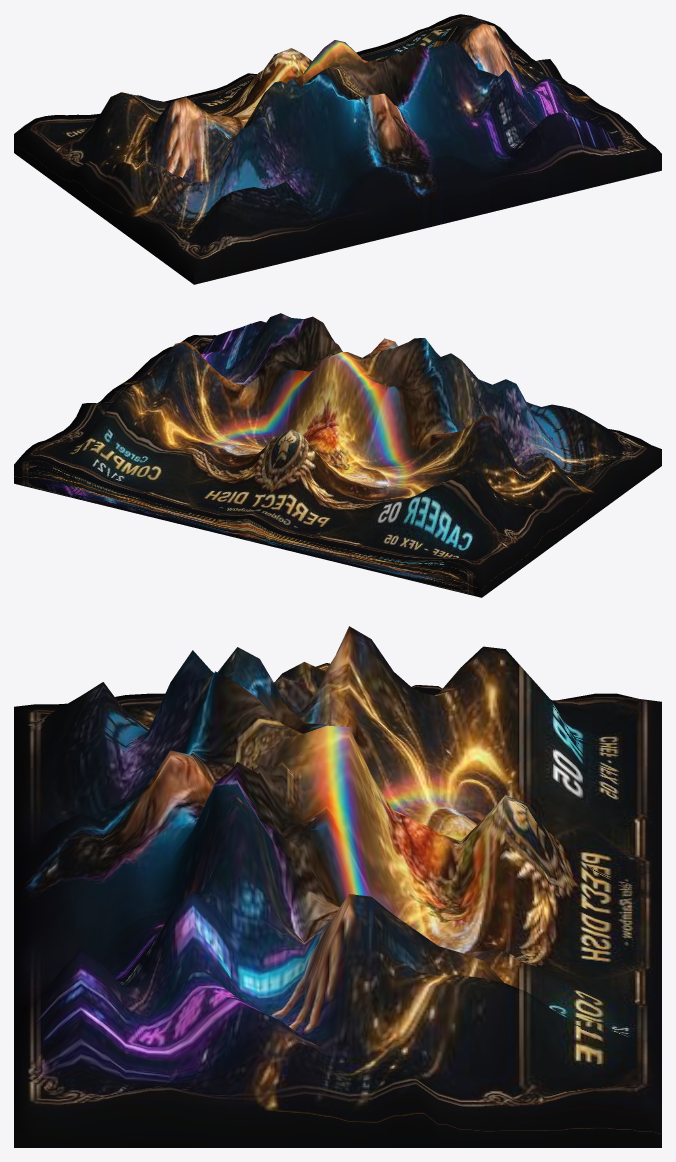
File: CAREER_05_VFX_05_Perfect_Dish.glb
The picture shows the model from 3 angles, top to bottom: view 1: azimuth 30°, elevation 25°; view 2: azimuth 150°, elevation 25°; view 3: azimuth 270°, elevation 25°; orthographic projection. The views are drawn at different scales.
Parts seen in each view (by area): view 1: CAREER_05_VFX_05_Perfect_Dish; view 2: CAREER_05_VFX_05_Perfect_Dish; view 3: CAREER_05_VFX_05_Perfect_Dish.
Part boxes in pixels (x1,y1,x2,y2): CAREER_05_VFX_05_Perfect_Dish: (14,14,661,284); CAREER_05_VFX_05_Perfect_Dish: (14,313,661,597); CAREER_05_VFX_05_Perfect_Dish: (14,626,661,1147).
Bounding box in the file's own units: 2 × 0.51 × 1.33.
Materials: 1 (1 with a texture image).
